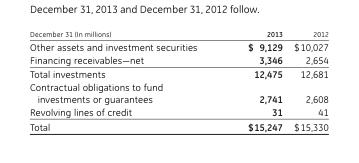table: (28, 29, 327, 131)
table column: (28, 29, 221, 131), (221, 29, 287, 131), (287, 29, 327, 131)
table column header: (28, 29, 327, 39)
table projected row header: (28, 80, 327, 92)
table row: (28, 52, 327, 66), (28, 66, 327, 80), (28, 104, 327, 118), (28, 39, 327, 52), (28, 118, 327, 131), (28, 80, 327, 92), (28, 92, 327, 104), (28, 29, 327, 39)
